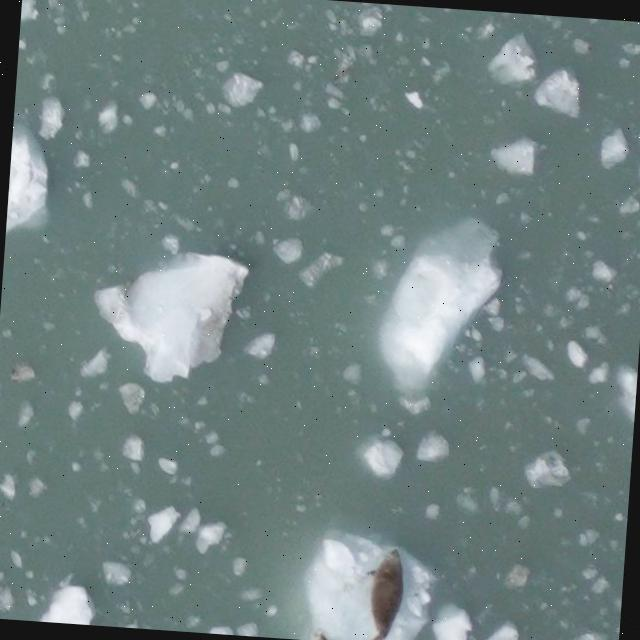seal: (367, 546, 403, 640)
